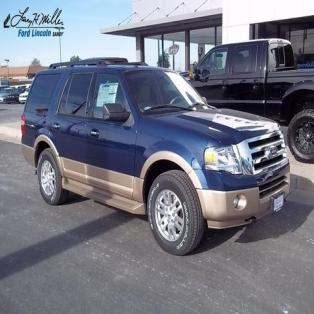Auto: (19, 62, 292, 258)
